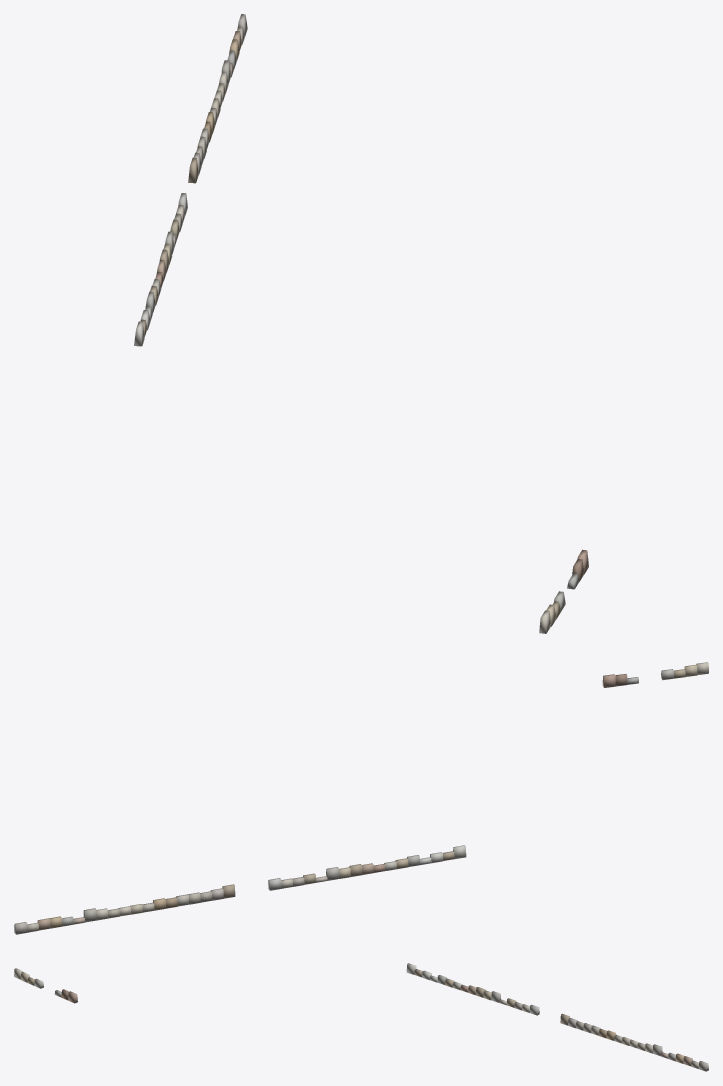
The model's file is farm_6_19_collision.glb.
The picture shows the model from 3 angles, top to bottom: view 1: azimuth 30°, elevation 25°; view 2: azimuth 150°, elevation 25°; view 3: azimuth 270°, elevation 25°; orthographic projection. The views are drawn at different scales.
Visible parts, largest first — view 1: geometry_0; view 2: geometry_0; view 3: geometry_0.
Part boxes in pixels (x1,y1,x2,y2): geometry_0: (134, 14, 588, 633); geometry_0: (14, 662, 708, 934); geometry_0: (14, 963, 708, 1071).
Bounding box in the file's own units: 38 × 2.02 × 111.
